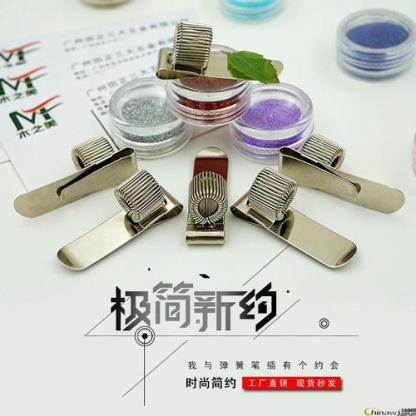FOD: (186, 167, 230, 227)
